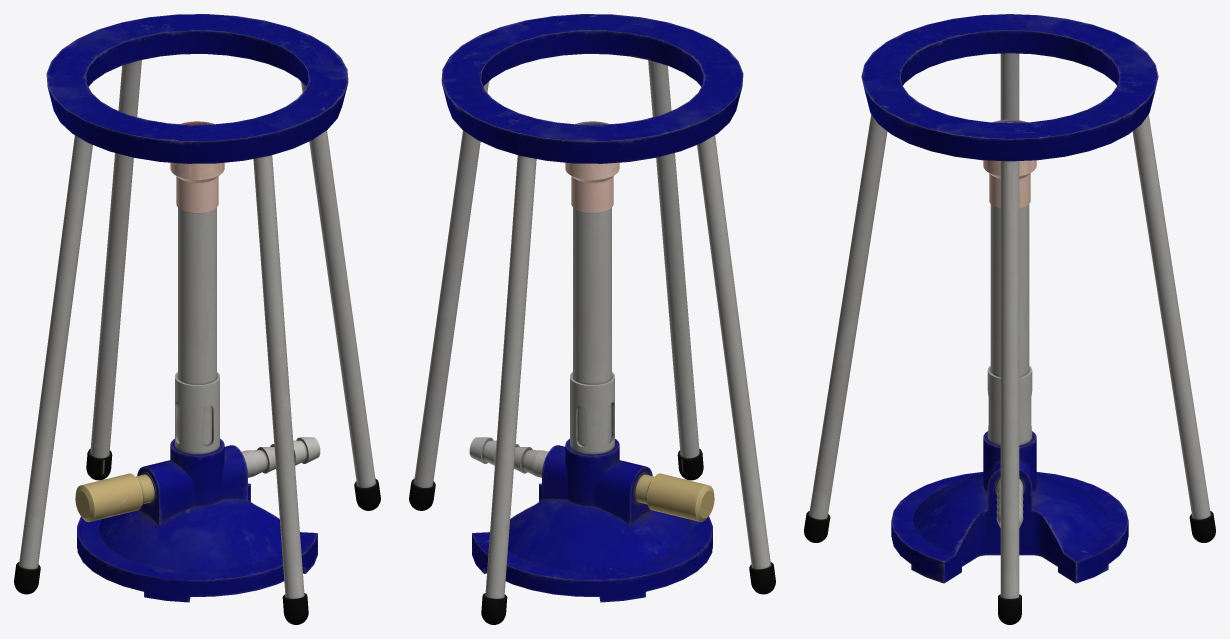
Rendered from bunsen_burner.glb.
3 views of the same model, side by side, from view 1: azimuth 30°, elevation 25°; view 2: azimuth 150°, elevation 25°; view 3: azimuth 270°, elevation 25° (orthographic).
Visible parts, largest first — view 1: bunsen_burner; view 2: bunsen_burner; view 3: bunsen_burner.
Part boxes in pixels (x1=…): bunsen_burner: x1=14, y1=14, x2=380, y2=624; bunsen_burner: x1=409, y1=14, x2=775, y2=624; bunsen_burner: x1=804, y1=14, x2=1215, y2=624.
Size of the model in its own units: 0.1389 by 0.1731 by 0.1389.
1 material, 1 textured.
